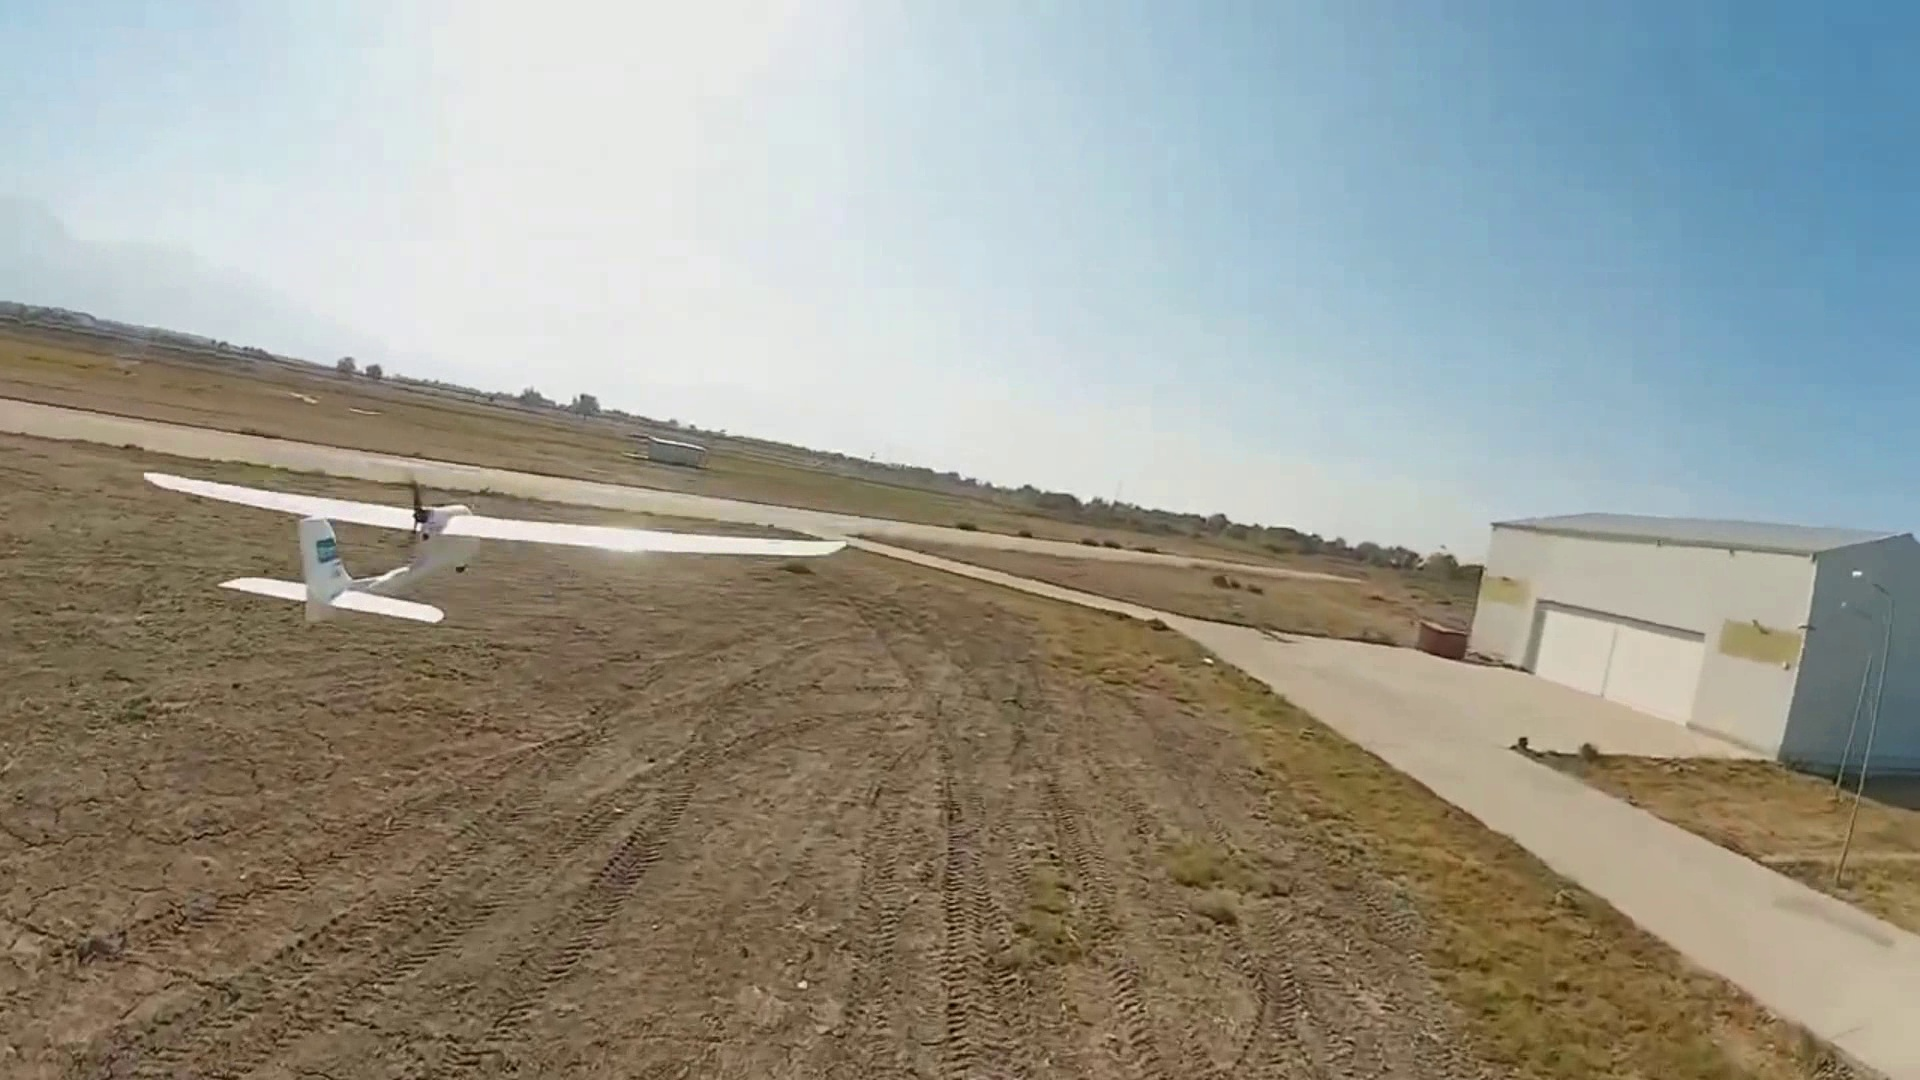airplane: (140, 464, 473, 622)
